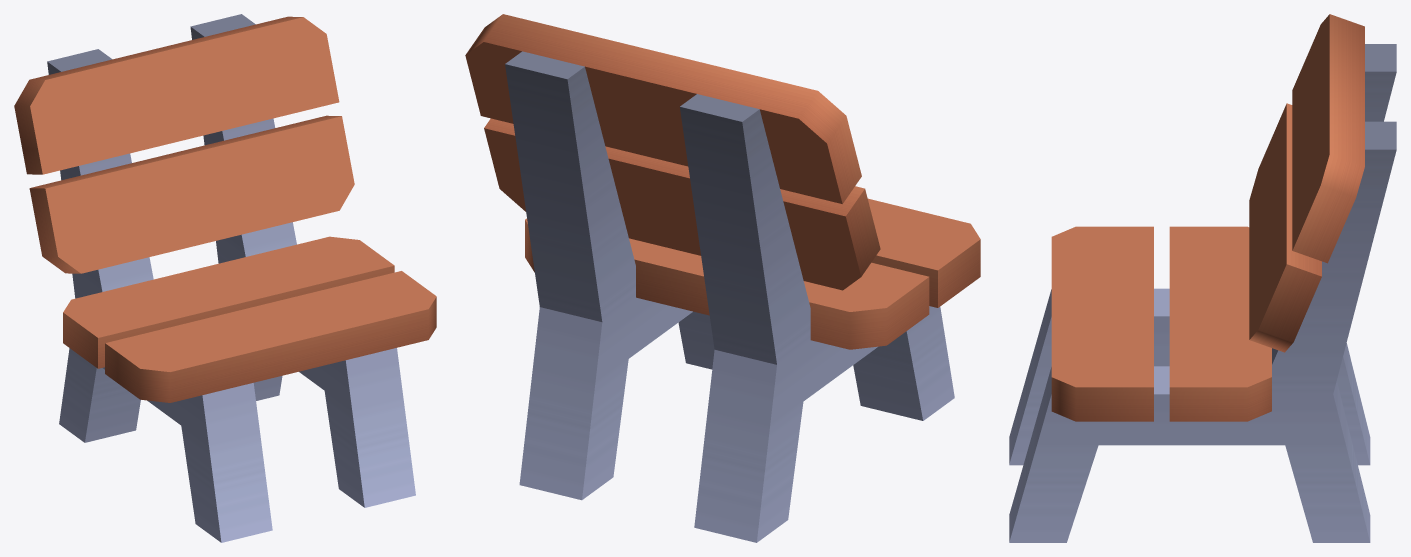
The model's file is bench_1.fbx.
3 renders of one model, left to right at view 1: azimuth 30°, elevation 25°; view 2: azimuth 150°, elevation 25°; view 3: azimuth 270°, elevation 25°, orthographic. The views are drawn at different scales.
Parts seen in each view (by area): view 1: bench_1; view 2: bench_1; view 3: bench_1.
Boxes of the visible parts, x1=… form: bench_1: x1=14, y1=14, x2=436, y2=542; bench_1: x1=465, y1=14, x2=980, y2=542; bench_1: x1=1009, y1=14, x2=1396, y2=542.
Size of the model in its own units: 0.621 by 0.7305 by 0.6321.
1 material, 1 textured.
